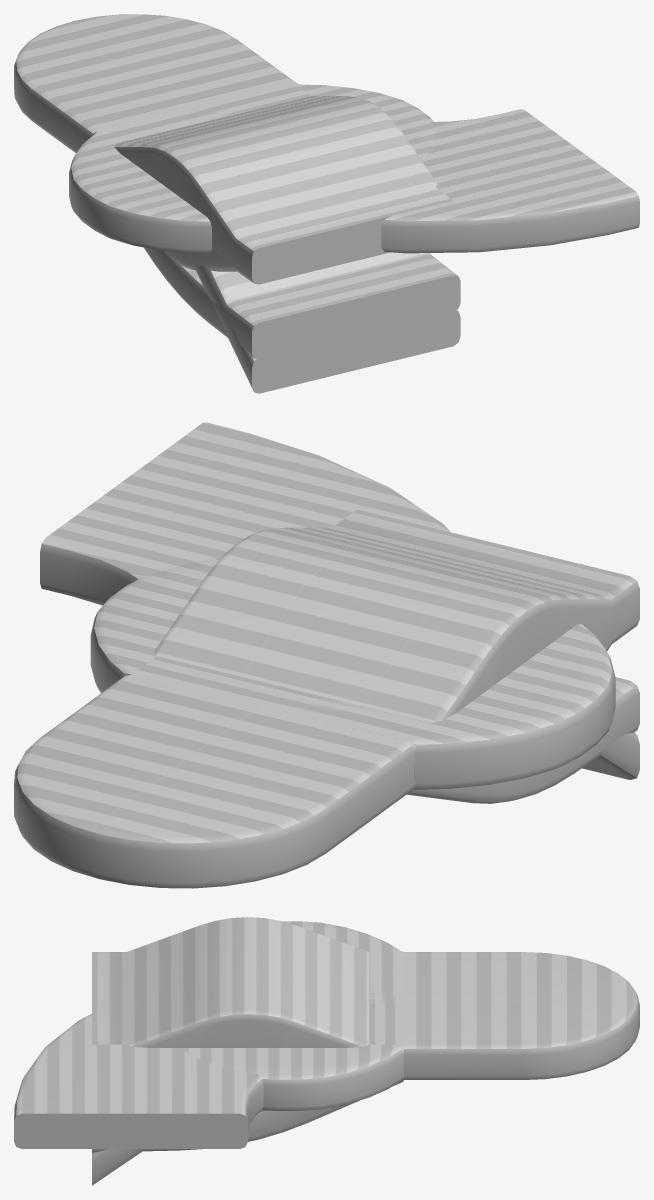
Rendered from Floor_2x3_BothSoft_thin.fbx.
3 views of the same model, one above another, from view 1: azimuth 30°, elevation 25°; view 2: azimuth 150°, elevation 25°; view 3: azimuth 270°, elevation 25° (orthographic). The views are drawn at different scales.
Visible parts, largest first — view 1: Floor_2x3_BS_Tn_hill, Floor_2x3_BS_Tn_rotate, Floor_2x3_BS_Tn_cap, Floor_2x3_BS_Tn_ramp2, Floor_2x3_BS_Tn_circle, Floor_2x3_BS_Tn_ramp1, Floor_2x3_BS_Tn_deep, Floor_2x3_BS_Tn_main; view 2: Floor_2x3_BS_Tn_hill, Floor_2x3_BS_Tn_cap, Floor_2x3_BS_Tn_rotate, Floor_2x3_BS_Tn_circle, Floor_2x3_BS_Tn_main, Floor_2x3_BS_Tn_ramp2, Floor_2x3_BS_Tn_ramp1; view 3: Floor_2x3_BS_Tn_hill, Floor_2x3_BS_Tn_cap, Floor_2x3_BS_Tn_rotate, Floor_2x3_BS_Tn_circle, Floor_2x3_BS_Tn_main, Floor_2x3_BS_Tn_ramp2, Floor_2x3_BS_Tn_ramp1.
Part boxes in pixels (x1,y1,x2,y2): Floor_2x3_BS_Tn_hill: [114, 96, 452, 284]; Floor_2x3_BS_Tn_rotate: [381, 109, 639, 253]; Floor_2x3_BS_Tn_cap: [14, 14, 296, 152]; Floor_2x3_BS_Tn_ramp2: [143, 247, 460, 358]; Floor_2x3_BS_Tn_circle: [69, 83, 434, 253]; Floor_2x3_BS_Tn_ramp1: [188, 252, 460, 393]; Floor_2x3_BS_Tn_deep: [165, 217, 387, 284]; Floor_2x3_BS_Tn_main: [189, 83, 310, 119]; Floor_2x3_BS_Tn_hill: [154, 509, 639, 722]; Floor_2x3_BS_Tn_cap: [14, 674, 414, 888]; Floor_2x3_BS_Tn_rotate: [40, 422, 450, 605]; Floor_2x3_BS_Tn_circle: [90, 557, 615, 790]; Floor_2x3_BS_Tn_main: [132, 656, 389, 720]; Floor_2x3_BS_Tn_ramp2: [407, 677, 639, 803]; Floor_2x3_BS_Tn_ramp1: [582, 732, 639, 779]; Floor_2x3_BS_Tn_hill: [92, 917, 369, 1047]; Floor_2x3_BS_Tn_cap: [404, 952, 639, 1079]; Floor_2x3_BS_Tn_rotate: [14, 1014, 263, 1148]; Floor_2x3_BS_Tn_circle: [180, 921, 403, 1110]; Floor_2x3_BS_Tn_main: [369, 987, 403, 1044]; Floor_2x3_BS_Tn_ramp2: [92, 1077, 403, 1152]; Floor_2x3_BS_Tn_ramp1: [92, 1149, 141, 1185].
Bounding box in the file's own units: 594 × 249 × 803.
